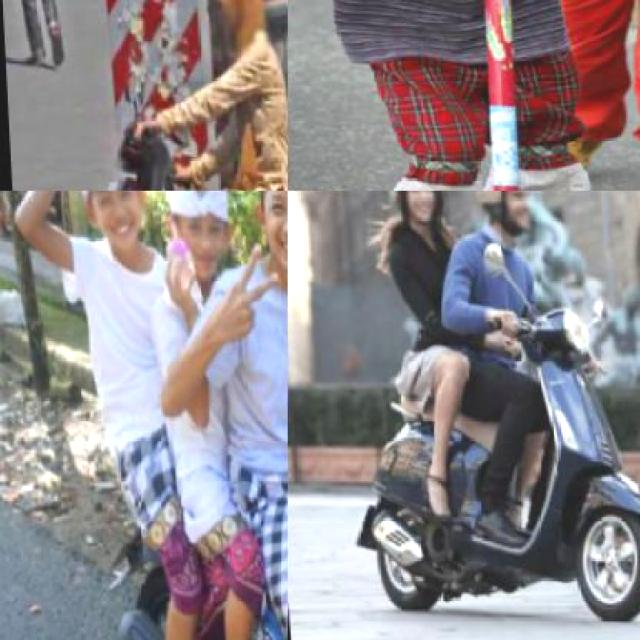With Helmet: (468, 191, 544, 238), (382, 190, 444, 228)
Without Helmet: (163, 190, 239, 268), (234, 191, 286, 283), (203, 0, 274, 58), (61, 191, 150, 226)
